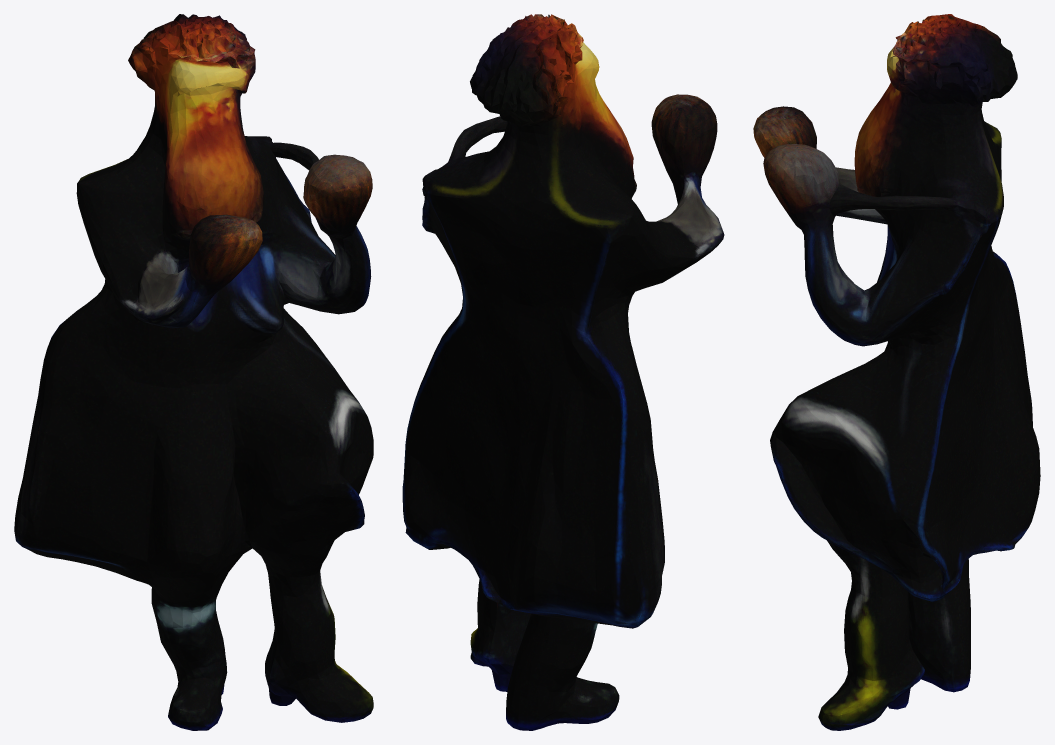
File: trellis_result.glb
The picture shows the model from 3 angles, left to right: view 1: azimuth 30°, elevation 25°; view 2: azimuth 150°, elevation 25°; view 3: azimuth 270°, elevation 25°; orthographic projection. The views are drawn at different scales.
Parts seen in each view (by area): view 1: world; view 2: world; view 3: world.
Boxes of the visible parts, x1,y1,x2,y2 form: world: (14,14,373,730); world: (402,14,724,730); world: (753,14,1040,730).
Size of the model in its own units: 0.4514 by 0.9988 by 0.3948.
Materials: 1 (1 with a texture image).
